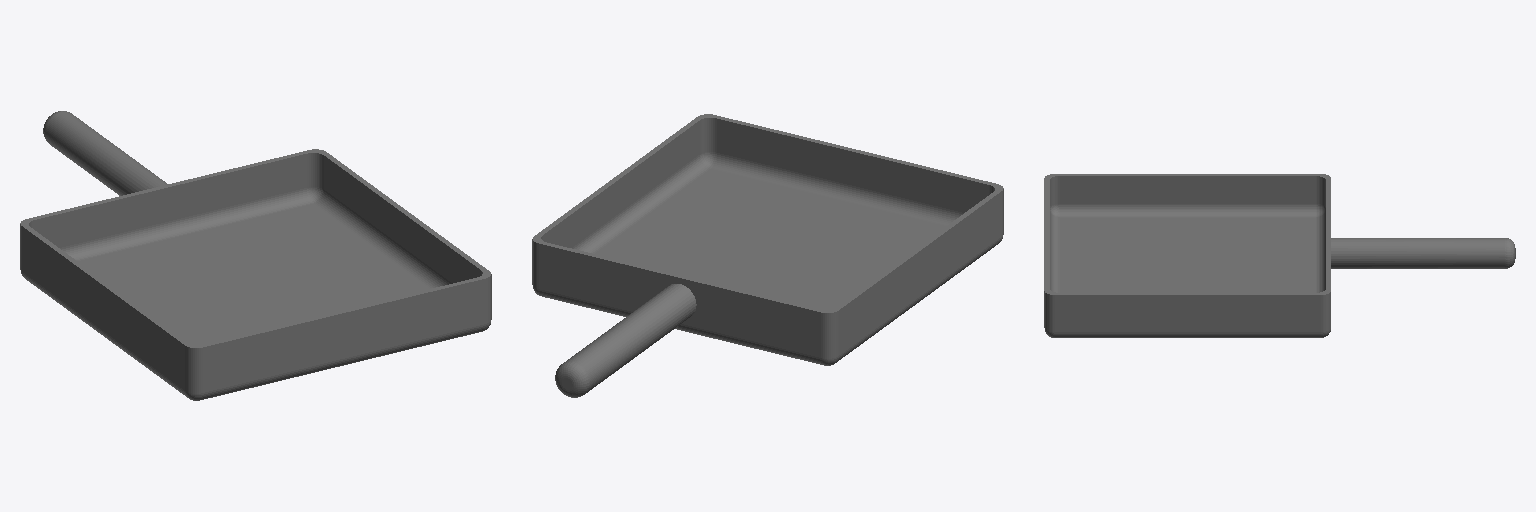
The robot description file, URDF, robot "ground_skeleton":
<?xml version="1.0"?>
<robot name="ground_skeleton">
    <link name="world" />
    <link name="ground_link">
        <inertial>
            <mass value="1.0" />
            <origin xyz="0 0 0" rpy="0 0 0" />
            <inertia ixx="1.0" ixy="0" ixz="0" iyy="1.0" iyz="0" izz="1.0" />
        </inertial>
        <visual>
            <origin xyz="0 0 0.0" rpy="0 0 0" />
            <geometry>
<!--                <box size="0.28 0.28 0.04"/>-->
                <mesh filename="./real_pan.obj"/>
            </geometry>
            <material name="pan_grey_">
				<color rgba="0.5 0.5 0.5 1.0" />
			</material>
        </visual>
        <collision group="default">
            <origin xyz="0 0 0.0" rpy="0 0 0" />
            <geometry>
                <mesh filename="./real_pan_coacd.obj"/>
            </geometry>
        </collision>
    </link>
    <joint name="ground_joint" type="fixed">
        <origin xyz="0 0 0" rpy="0 0 0" />
        <parent link="world" />
        <child link="ground_link" />
    </joint>
    <!-- <link name="ground_link2">
        <inertial>
            <mass value="1.0" />
            <origin xyz="0 0.145 0.039" rpy="-0.05 0 0" />
            <inertia ixx="1.0" ixy="0" ixz="0" iyy="1.0" iyz="0" izz="1.0" />
        </inertial>
        <visual>
            <origin xyz="0 0.145 0.039" rpy="-0.05 0 0" />
            <geometry>
                <box size="0.255 0.02 0.05"/>
            </geometry>
            <material name="pan_grey">
				<color rgba="0 0 0 0" />
			</material>
        </visual>
        <collision group="default">
            <origin xyz="0 0.145 0.039" rpy="-0.05 0 0" />
            <geometry>
                <box size="0.255 0.02 0.05"/>
            </geometry>
        </collision>
    </link>
    <joint name="ground_joint2" type="fixed">
        <origin xyz="0 0 0" rpy="0 0 0" />
        <parent link="world" />
        <child link="ground_link2" />
    </joint>
    <link name="ground_link3">
        <inertial>
            <mass value="1.0" />
            <origin xyz="0 -0.145 0.04" rpy="0 0 0" />
            <inertia ixx="1.0" ixy="0" ixz="0" iyy="1.0" iyz="0" izz="1.0" />
        </inertial>
        <visual>
            <origin xyz="0 -0.145 0.04" rpy="0 0 0" />
            <geometry>
                <box size="0.255 0.02 0.04"/>
            </geometry>
            <material name="pan_grey">
				<color rgba="0 0 0 0" />
			</material>
        </visual>
        <collision group="default">
            <origin xyz="0 -0.145 0.04" rpy="0 0 0" />
            <geometry>
                <box size="0.255 0.02 0.04"/>
            </geometry>
        </collision>
    </link>
    <joint name="ground_joint3" type="fixed">
        <origin xyz="0 0 0" rpy="0 0 0" />
        <parent link="world" />
        <child link="ground_link3" />
    </joint>
    <link name="ground_link4">
        <inertial>
            <mass value="1.0" />
            <origin xyz="0.140 0 0.04" rpy="0 0 0" />
            <inertia ixx="1.0" ixy="0" ixz="0" iyy="1.0" iyz="0" izz="1.0" />
        </inertial>
        <visual>
            <origin xyz="0.140 0 0.04" rpy="0 0 0" />
            <geometry>
                <box size="0.02 0.30 0.04"/>
            </geometry>
            <material name="pan_grey">
				<color rgba="0 0 0 0" />
			</material>
        </visual>
        <collision group="default">
            <origin xyz="0.140 0 0.04" rpy="0 0 0" />
            <geometry>
                <box size="0.02 0.30 0.04"/>
            </geometry>
        </collision>
    </link>
    <joint name="ground_joint4" type="fixed">
        <origin xyz="0 0 0" rpy="0 0 0" />
        <parent link="world" />
        <child link="ground_link4" />
    </joint>
    <link name="ground_link5">
        <inertial>
            <mass value="1.0" />
            <origin xyz="-0.140 0 0.04" rpy="0 0 0" />
            <inertia ixx="1.0" ixy="0" ixz="0" iyy="1.0" iyz="0" izz="1.0" />
        </inertial>
        <visual>
            <origin xyz="-0.140 0 0.04" rpy="0 0 0" />
            <geometry>
                <box size="0.02 0.30 0.04"/>
            </geometry>
            <material name="pan_grey">
				<color rgba="0 0 0 0" />
			</material>
        </visual>
        <collision group="default">
            <origin xyz="-0.140 0 0.04" rpy="0 0 0" />
            <geometry>
                <box size="0.02 0.30 0.04"/>
            </geometry>
        </collision>
    </link>
    <joint name="ground_joint5" type="fixed">
        <origin xyz="0 0 0" rpy="0 0 0" />
        <parent link="world" />
        <child link="ground_link5" />
    </joint> -->
</robot>

--- Render facts (derived) ---
3 views of the same robot in one strip: view 1: azimuth 30°, elevation 25°; view 2: azimuth 150°, elevation 25°; view 3: azimuth 270°, elevation 25° (orthographic).
Robot: ground_skeleton — 2 links, 1 joints (1 fixed); root link world; default pose: every joint at zero.
Visible links, largest first — view 1: ground_link; view 2: ground_link; view 3: ground_link.
Boxes of the visible links, x1,y1,x2,y2 form: ground_link: (20, 111, 491, 400); ground_link: (532, 114, 1003, 397); ground_link: (1044, 174, 1515, 337).
Bounding box of the posed robot: 0.28 × 0.46 × 0.05 m (x, y, z).
1 mesh visuals loaded from 1 distinct referenced files (1 OBJ).
